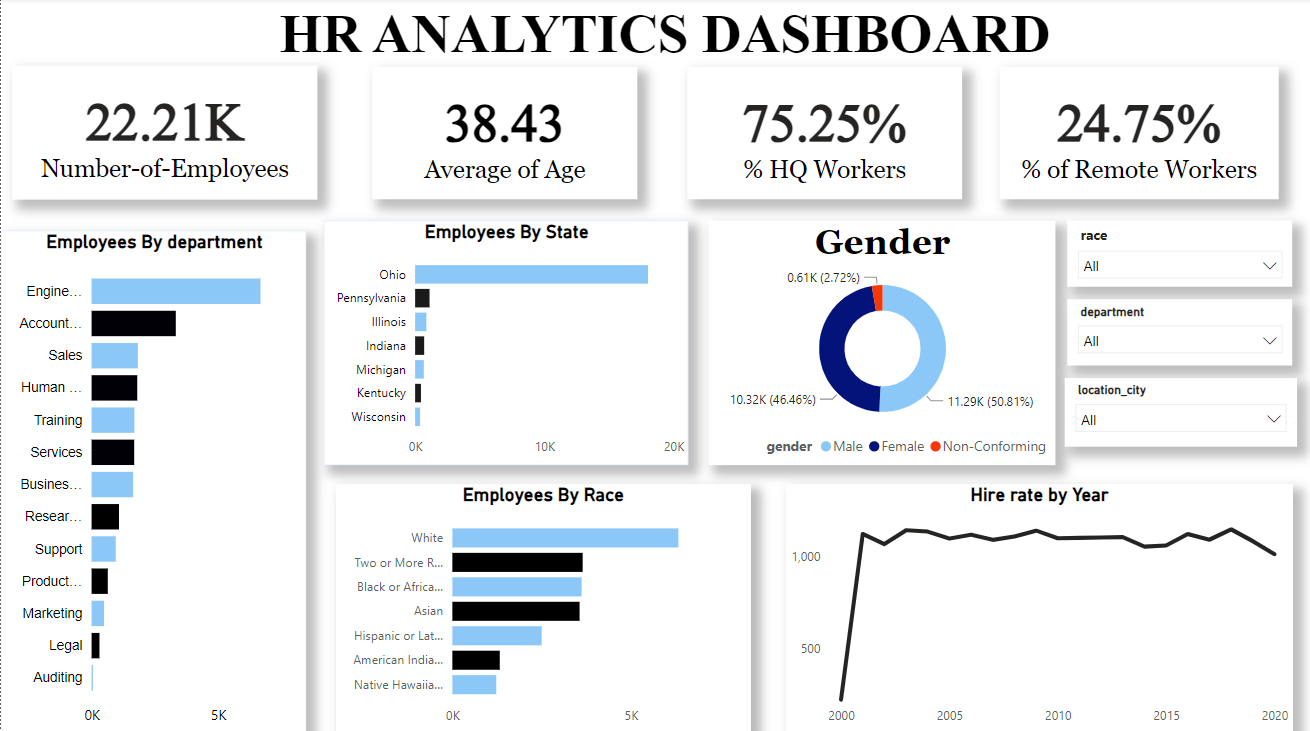

The page's visual inventory and layout, read from the dashboard file:
{"tool":"powerbi","page":{"name":"Page 3","canvas":[1280,720],"ordinal":2},"visuals":[{"type":"card","title":"Average Age","fields":{"Values":["Avg(customers.Age)"]},"box":[344.7,67.2,270.2,129.6],"z":0},{"type":"donutChart","title":"Gender","fields":{"Category":["customers.gender"],"Y":["CountNonNull(customers.id)"]},"box":[691.9,217.6,339.2,239.2],"z":1000},{"type":"barChart","title":"Employees By State","fields":{"Y":["CountNonNull(customers.location_state)"],"Category":["customers.location_state"]},"box":[314.9,217.6,356.8,239.2],"z":2000},{"type":"barChart","title":"Employees By Race","fields":{"Category":["customers.race"],"Y":["CountNonNull(customers.race)"]},"box":[327,475.7,405.4,244.6],"z":3000},{"type":"barChart","title":"Employees By department","fields":{"Category":["customers.department"],"Y":["CountNonNull(customers.department)"]},"box":[0,217.6,298.3,502.4],"z":4000},{"type":"textbox","box":[200.5,0,897.2,70.9],"z":5000},{"type":"lineChart","title":"Hire rate by Year","fields":{"Y":["CountNonNull(customers.hire_date)"],"Category":["customers.YearColumn"]},"box":[767.6,475.7,495.9,244.6],"z":6000},{"type":"card","fields":{"Values":["customers.Number-of-Employees"]},"box":[10.8,66.2,298.6,131.1],"z":7000},{"type":"card","fields":{"Values":["customers.% HQ Workers"]},"box":[649.1,68.5,281.2,125.9],"z":8000},{"type":"card","fields":{"Values":["customers.% of Remote Workers"]},"box":[969.4,66,273.8,128.4],"z":9000},{"type":"slicer","fields":{"Values":["customers.race"]},"box":[1043.2,217.6,220.3,64.9],"z":10000},{"type":"slicer","fields":{"Values":["customers.department"]},"box":[1043.2,294.6,220.3,64.9],"z":11000},{"type":"slicer","fields":{"Values":["customers.location_city"]},"box":[1040.5,371.6,227,67.6],"z":12000}]}

Visuals, with their boxes in screenshot pixels (x1, y1, x2, y2), scaled from the page's 1280x720 canvas onto the 1310x731 screenshot:
"Average Age" card: region(353, 68, 629, 200)
"Gender" donutChart: region(708, 221, 1055, 464)
"Employees By State" barChart: region(322, 221, 687, 464)
"Employees By Race" barChart: region(335, 483, 750, 730)
"Employees By department" barChart: region(0, 221, 305, 730)
textbox: region(205, 0, 1123, 72)
"Hire rate by Year" lineChart: region(786, 483, 1293, 730)
card - customers.Number-of-Employees: region(11, 67, 317, 200)
card - customers.% HQ Workers: region(664, 70, 952, 197)
card - customers.% of Remote Workers: region(992, 67, 1272, 197)
slicer - customers.race: region(1068, 221, 1293, 287)
slicer - customers.department: region(1068, 299, 1293, 365)
slicer - customers.location_city: region(1065, 377, 1297, 446)
